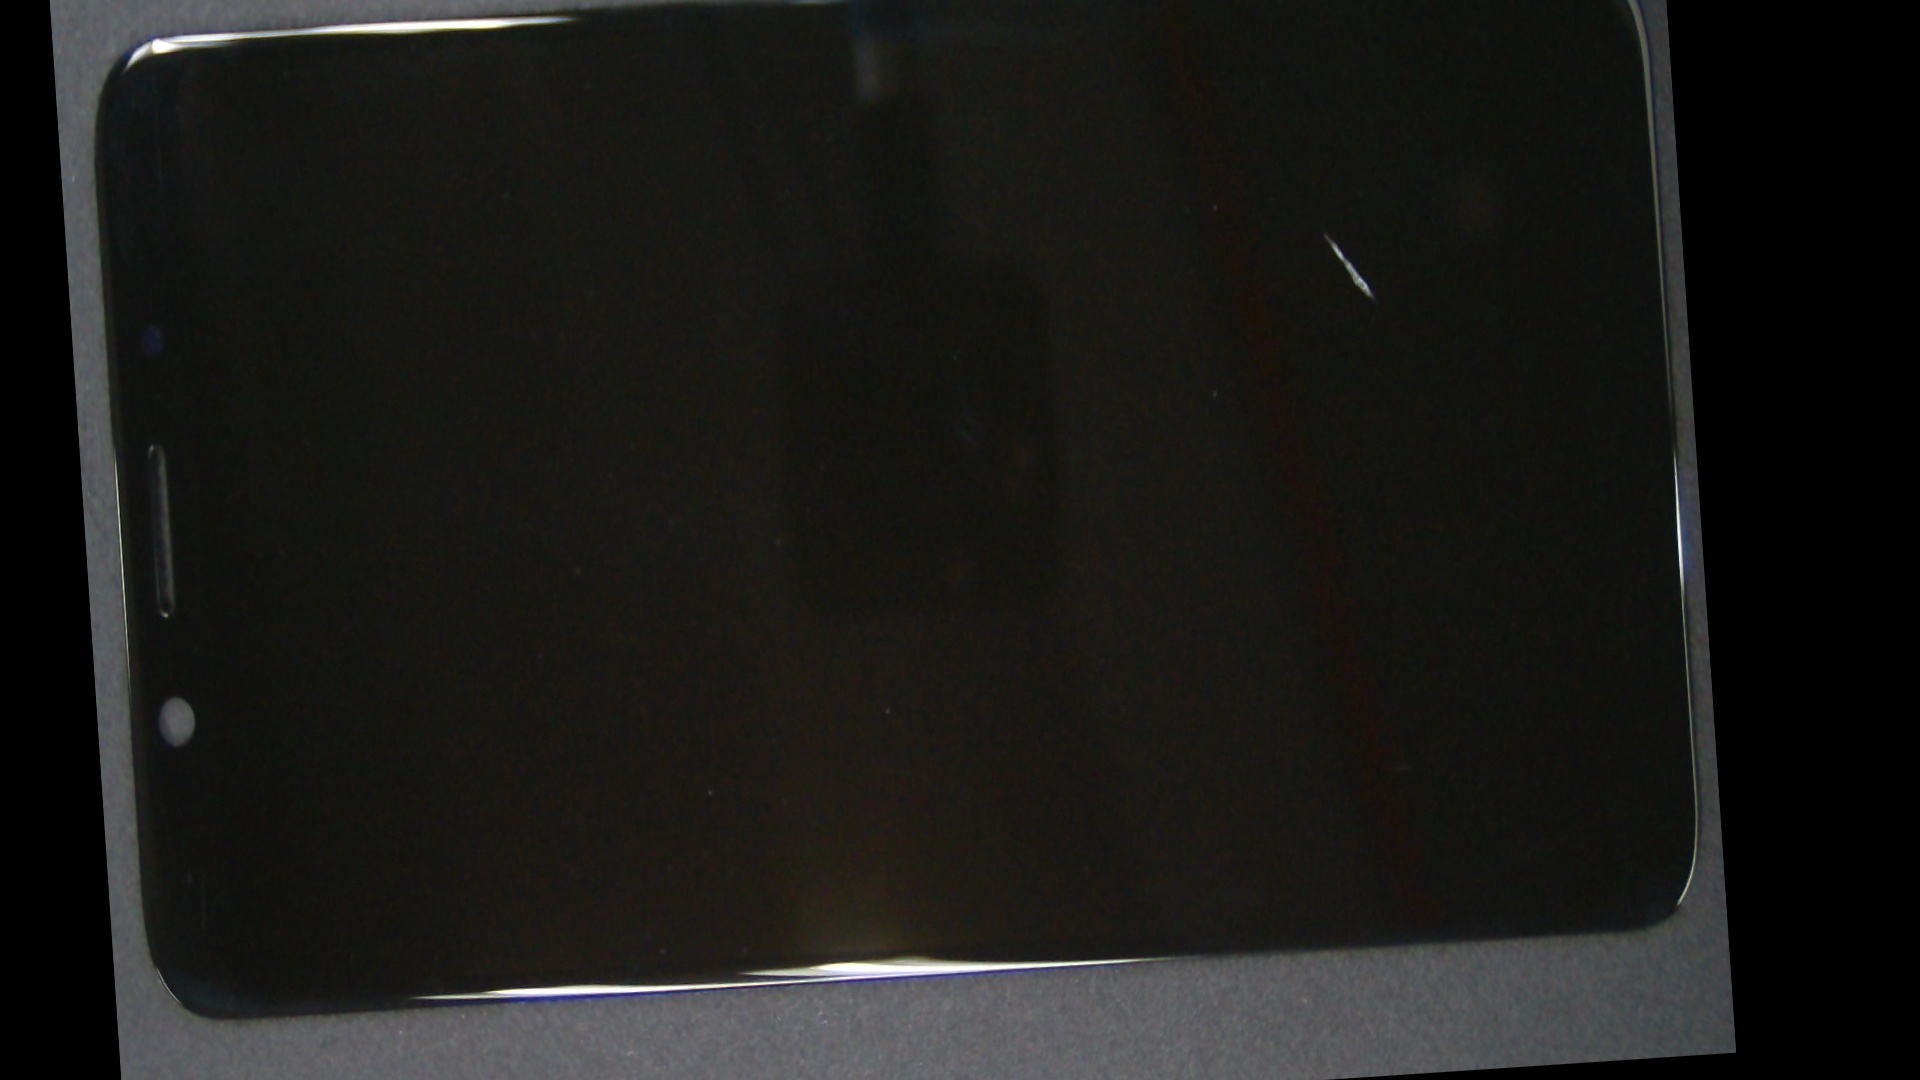oil: (686, 20, 1693, 460)
